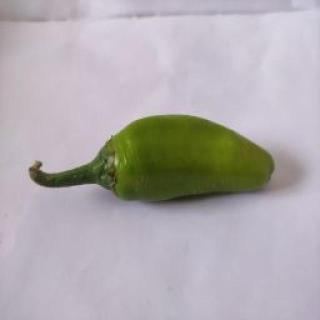Cabai Hijau: (24, 112, 278, 206)
